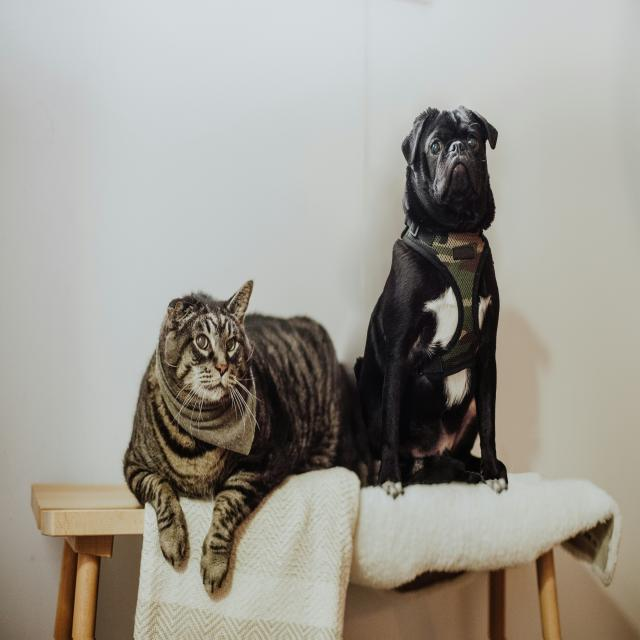cat: (144, 262, 276, 478)
dog: (377, 78, 519, 287)
